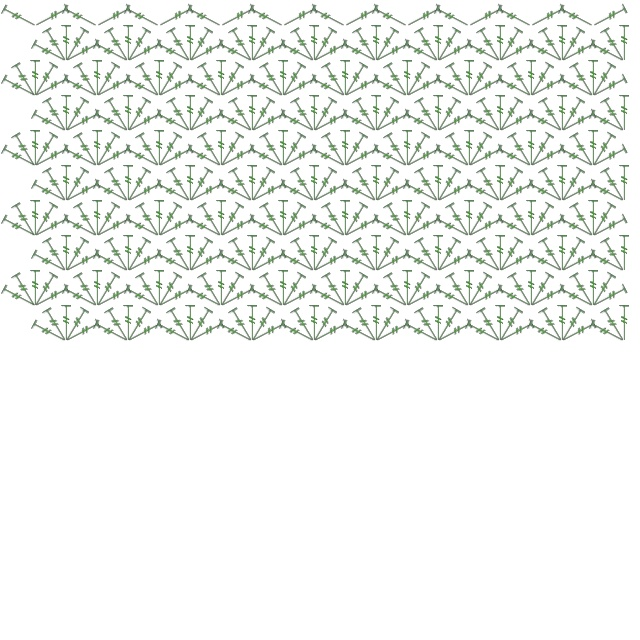fan: (42, 26, 71, 64), (61, 26, 90, 64), (104, 26, 133, 64), (123, 26, 152, 64), (166, 26, 195, 64), (185, 26, 214, 64), (228, 26, 257, 64), (247, 26, 276, 64), (290, 26, 319, 64), (309, 26, 338, 64), (352, 26, 381, 64), (371, 26, 400, 64), (414, 26, 443, 64), (433, 26, 462, 64), (476, 26, 505, 64), (495, 26, 524, 64), (538, 26, 567, 64), (557, 26, 586, 64), (600, 26, 629, 64), (11, 61, 40, 99), (30, 61, 59, 99), (73, 61, 102, 99), (92, 61, 121, 99), (135, 61, 164, 99), (154, 61, 183, 99), (197, 61, 226, 99), (216, 61, 245, 99), (259, 61, 288, 99), (278, 61, 307, 99), (321, 61, 350, 99), (340, 61, 369, 99), (383, 61, 412, 99), (402, 61, 431, 99), (445, 61, 474, 99), (464, 61, 493, 99), (507, 61, 536, 99), (526, 61, 555, 99), (569, 61, 598, 99), (588, 61, 617, 99), (42, 96, 71, 134), (61, 96, 90, 134), (104, 96, 133, 134), (123, 96, 152, 134), (166, 96, 195, 134), (185, 96, 214, 134), (228, 96, 257, 134), (247, 96, 276, 134), (290, 96, 319, 134), (309, 96, 338, 134), (352, 96, 381, 134), (371, 96, 400, 134), (414, 96, 443, 134), (433, 96, 462, 134), (476, 96, 505, 134), (495, 96, 524, 134), (538, 96, 567, 134), (557, 96, 586, 134), (600, 96, 629, 134), (11, 131, 40, 169), (30, 131, 59, 169), (73, 131, 102, 169), (92, 131, 121, 169), (135, 131, 164, 169), (154, 131, 183, 169), (197, 131, 226, 169), (216, 131, 245, 169), (259, 131, 288, 169), (278, 131, 307, 169), (321, 131, 350, 169), (340, 131, 369, 169), (383, 131, 412, 169), (402, 131, 431, 169), (445, 131, 474, 169), (464, 131, 493, 169), (507, 131, 536, 169), (526, 131, 555, 169), (569, 131, 598, 169), (588, 131, 617, 169), (42, 166, 71, 204), (61, 166, 90, 204), (104, 166, 133, 204), (123, 166, 152, 204), (166, 166, 195, 204), (185, 166, 214, 204), (228, 166, 257, 204), (247, 166, 276, 204), (290, 166, 319, 204), (309, 166, 338, 204), (352, 166, 381, 204), (371, 166, 400, 204), (414, 166, 443, 204), (433, 166, 462, 204), (476, 166, 505, 204), (495, 166, 524, 204), (538, 166, 567, 204), (557, 166, 586, 204), (600, 166, 629, 204), (11, 201, 40, 239), (30, 201, 59, 239), (73, 201, 102, 239), (92, 201, 121, 239), (135, 201, 164, 239), (154, 201, 183, 239), (197, 201, 226, 239), (216, 201, 245, 239), (259, 201, 288, 239), (278, 201, 307, 239), (321, 201, 350, 239), (340, 201, 369, 239), (383, 201, 412, 239), (402, 201, 431, 239), (445, 201, 474, 239), (464, 201, 493, 239), (507, 201, 536, 239), (526, 201, 555, 239), (569, 201, 598, 239), (588, 201, 617, 239), (42, 236, 71, 274), (61, 236, 90, 274), (104, 236, 133, 274), (123, 236, 152, 274), (166, 236, 195, 274), (185, 236, 214, 274), (228, 236, 257, 274), (247, 236, 276, 274), (290, 236, 319, 274), (309, 236, 338, 274), (352, 236, 381, 274), (371, 236, 400, 274), (414, 236, 443, 274), (433, 236, 462, 274), (476, 236, 505, 274), (495, 236, 524, 274), (538, 236, 567, 274), (557, 236, 586, 274), (600, 236, 629, 274), (11, 271, 40, 309), (30, 271, 59, 309), (73, 271, 102, 309), (92, 271, 121, 309), (135, 271, 164, 309), (154, 271, 183, 309), (197, 271, 226, 309), (216, 271, 245, 309), (259, 271, 288, 309), (278, 271, 307, 309), (321, 271, 350, 309), (340, 271, 369, 309), (383, 271, 412, 309), (402, 271, 431, 309), (445, 271, 474, 309), (464, 271, 493, 309), (507, 271, 536, 309), (526, 271, 555, 309), (569, 271, 598, 309), (588, 271, 617, 309), (42, 306, 71, 344), (61, 306, 90, 344), (104, 306, 133, 344), (123, 306, 152, 344), (166, 306, 195, 344), (185, 306, 214, 344), (228, 306, 257, 344), (247, 306, 276, 344), (290, 306, 319, 344), (309, 306, 338, 344), (352, 306, 381, 344), (371, 306, 400, 344), (414, 306, 443, 344), (433, 306, 462, 344), (476, 306, 505, 344), (495, 306, 524, 344), (538, 306, 567, 344), (557, 306, 586, 344), (600, 306, 629, 344), (0, 3, 38, 31), (32, 3, 70, 31), (62, 3, 100, 31), (94, 3, 132, 31), (124, 3, 162, 31), (156, 3, 194, 31), (186, 3, 224, 31), (218, 3, 256, 31), (248, 3, 286, 31), (280, 3, 318, 31), (310, 3, 348, 31), (342, 3, 380, 31), (372, 3, 410, 31), (404, 3, 442, 31), (434, 3, 472, 31), (466, 3, 504, 31), (496, 3, 534, 31), (528, 3, 566, 31), (558, 3, 596, 31), (590, 3, 628, 31), (31, 38, 69, 66), (63, 38, 101, 66), (93, 38, 131, 66), (125, 38, 163, 66), (155, 38, 193, 66), (187, 38, 225, 66), (217, 38, 255, 66), (249, 38, 287, 66), (279, 38, 317, 66), (311, 38, 349, 66), (341, 38, 379, 66), (373, 38, 411, 66), (403, 38, 441, 66), (435, 38, 473, 66), (465, 38, 503, 66), (497, 38, 535, 66), (527, 38, 565, 66), (559, 38, 597, 66), (589, 38, 627, 66), (0, 73, 38, 101), (32, 73, 70, 101), (62, 73, 100, 101), (94, 73, 132, 101), (124, 73, 162, 101), (156, 73, 194, 101), (186, 73, 224, 101), (218, 73, 256, 101), (248, 73, 286, 101), (280, 73, 318, 101), (310, 73, 348, 101), (342, 73, 380, 101), (372, 73, 410, 101), (404, 73, 442, 101), (434, 73, 472, 101), (466, 73, 504, 101), (496, 73, 534, 101), (528, 73, 566, 101), (558, 73, 596, 101), (590, 73, 628, 101), (31, 108, 69, 136), (63, 108, 101, 136), (93, 108, 131, 136), (125, 108, 163, 136), (155, 108, 193, 136), (187, 108, 225, 136), (217, 108, 255, 136), (249, 108, 287, 136), (279, 108, 317, 136), (311, 108, 349, 136), (341, 108, 379, 136), (373, 108, 411, 136), (403, 108, 441, 136), (435, 108, 473, 136), (465, 108, 503, 136), (497, 108, 535, 136), (527, 108, 565, 136), (559, 108, 597, 136), (589, 108, 627, 136), (0, 143, 38, 171), (32, 143, 70, 171), (62, 143, 100, 171), (94, 143, 132, 171), (124, 143, 162, 171), (156, 143, 194, 171), (186, 143, 224, 171), (218, 143, 256, 171), (248, 143, 286, 171), (280, 143, 318, 171), (310, 143, 348, 171), (342, 143, 380, 171), (372, 143, 410, 171), (404, 143, 442, 171), (434, 143, 472, 171), (466, 143, 504, 171), (496, 143, 534, 171), (528, 143, 566, 171), (558, 143, 596, 171), (590, 143, 628, 171), (31, 178, 69, 206), (63, 178, 101, 206), (93, 178, 131, 206), (125, 178, 163, 206), (155, 178, 193, 206), (187, 178, 225, 206), (217, 178, 255, 206), (249, 178, 287, 206), (279, 178, 317, 206), (311, 178, 349, 206), (341, 178, 379, 206), (373, 178, 411, 206), (403, 178, 441, 206), (435, 178, 473, 206), (465, 178, 503, 206), (497, 178, 535, 206), (527, 178, 565, 206), (559, 178, 597, 206), (589, 178, 627, 206), (0, 213, 38, 241), (32, 213, 70, 241), (62, 213, 100, 241), (94, 213, 132, 241), (124, 213, 162, 241), (156, 213, 194, 241), (186, 213, 224, 241), (218, 213, 256, 241), (248, 213, 286, 241), (280, 213, 318, 241), (310, 213, 348, 241), (342, 213, 380, 241), (372, 213, 410, 241), (404, 213, 442, 241), (434, 213, 472, 241), (466, 213, 504, 241), (496, 213, 534, 241), (528, 213, 566, 241), (558, 213, 596, 241), (590, 213, 628, 241), (31, 248, 69, 276), (63, 248, 101, 276), (93, 248, 131, 276), (125, 248, 163, 276), (155, 248, 193, 276), (187, 248, 225, 276), (217, 248, 255, 276), (249, 248, 287, 276), (279, 248, 317, 276), (311, 248, 349, 276), (341, 248, 379, 276), (373, 248, 411, 276), (403, 248, 441, 276), (435, 248, 473, 276), (465, 248, 503, 276), (497, 248, 535, 276), (527, 248, 565, 276), (559, 248, 597, 276), (589, 248, 627, 276), (0, 283, 38, 311), (32, 283, 70, 311), (62, 283, 100, 311), (94, 283, 132, 311), (124, 283, 162, 311), (156, 283, 194, 311), (186, 283, 224, 311), (218, 283, 256, 311), (248, 283, 286, 311), (280, 283, 318, 311), (310, 283, 348, 311), (342, 283, 380, 311), (372, 283, 410, 311), (404, 283, 442, 311), (434, 283, 472, 311), (466, 283, 504, 311), (496, 283, 534, 311), (528, 283, 566, 311), (558, 283, 596, 311), (590, 283, 628, 311), (31, 318, 69, 346), (63, 318, 101, 346), (93, 318, 131, 346), (125, 318, 163, 346), (155, 318, 193, 346), (187, 318, 225, 346), (217, 318, 255, 346), (249, 318, 287, 346), (279, 318, 317, 346), (311, 318, 349, 346), (341, 318, 379, 346), (373, 318, 411, 346), (403, 318, 441, 346), (435, 318, 473, 346), (465, 318, 503, 346), (497, 318, 535, 346), (527, 318, 565, 346), (559, 318, 597, 346), (589, 318, 627, 346), (60, 24, 72, 61), (122, 24, 134, 61), (184, 24, 196, 61), (246, 24, 258, 61), (308, 24, 320, 61), (370, 24, 382, 61), (432, 24, 444, 61), (494, 24, 506, 61), (556, 24, 568, 61), (618, 24, 630, 61), (29, 59, 41, 96), (91, 59, 103, 96), (153, 59, 165, 96), (215, 59, 227, 96), (277, 59, 289, 96), (339, 59, 351, 96), (401, 59, 413, 96), (463, 59, 475, 96), (525, 59, 537, 96), (587, 59, 599, 96), (60, 94, 72, 131), (122, 94, 134, 131), (184, 94, 196, 131), (246, 94, 258, 131), (308, 94, 320, 131), (370, 94, 382, 131), (432, 94, 444, 131), (494, 94, 506, 131), (556, 94, 568, 131), (618, 94, 630, 131), (29, 129, 41, 166), (91, 129, 103, 166), (153, 129, 165, 166), (215, 129, 227, 166), (277, 129, 289, 166), (339, 129, 351, 166), (401, 129, 413, 166), (463, 129, 475, 166), (525, 129, 537, 166), (587, 129, 599, 166), (60, 164, 72, 201), (122, 164, 134, 201), (184, 164, 196, 201), (246, 164, 258, 201), (308, 164, 320, 201), (370, 164, 382, 201), (432, 164, 444, 201), (494, 164, 506, 201), (556, 164, 568, 201), (618, 164, 630, 201), (29, 199, 41, 236), (91, 199, 103, 236), (153, 199, 165, 236), (215, 199, 227, 236), (277, 199, 289, 236), (339, 199, 351, 236), (401, 199, 413, 236), (463, 199, 475, 236), (525, 199, 537, 236), (587, 199, 599, 236), (60, 234, 72, 271), (122, 234, 134, 271), (184, 234, 196, 271), (246, 234, 258, 271), (308, 234, 320, 271), (370, 234, 382, 271), (432, 234, 444, 271), (494, 234, 506, 271), (556, 234, 568, 271), (618, 234, 630, 271), (29, 269, 41, 306), (91, 269, 103, 306), (153, 269, 165, 306), (215, 269, 227, 306), (277, 269, 289, 306), (339, 269, 351, 306), (401, 269, 413, 306), (463, 269, 475, 306), (525, 269, 537, 306), (587, 269, 599, 306), (60, 304, 72, 341), (122, 304, 134, 341), (184, 304, 196, 341), (246, 304, 258, 341), (308, 304, 320, 341), (370, 304, 382, 341), (432, 304, 444, 341), (494, 304, 506, 341), (556, 304, 568, 341), (618, 304, 630, 341)
